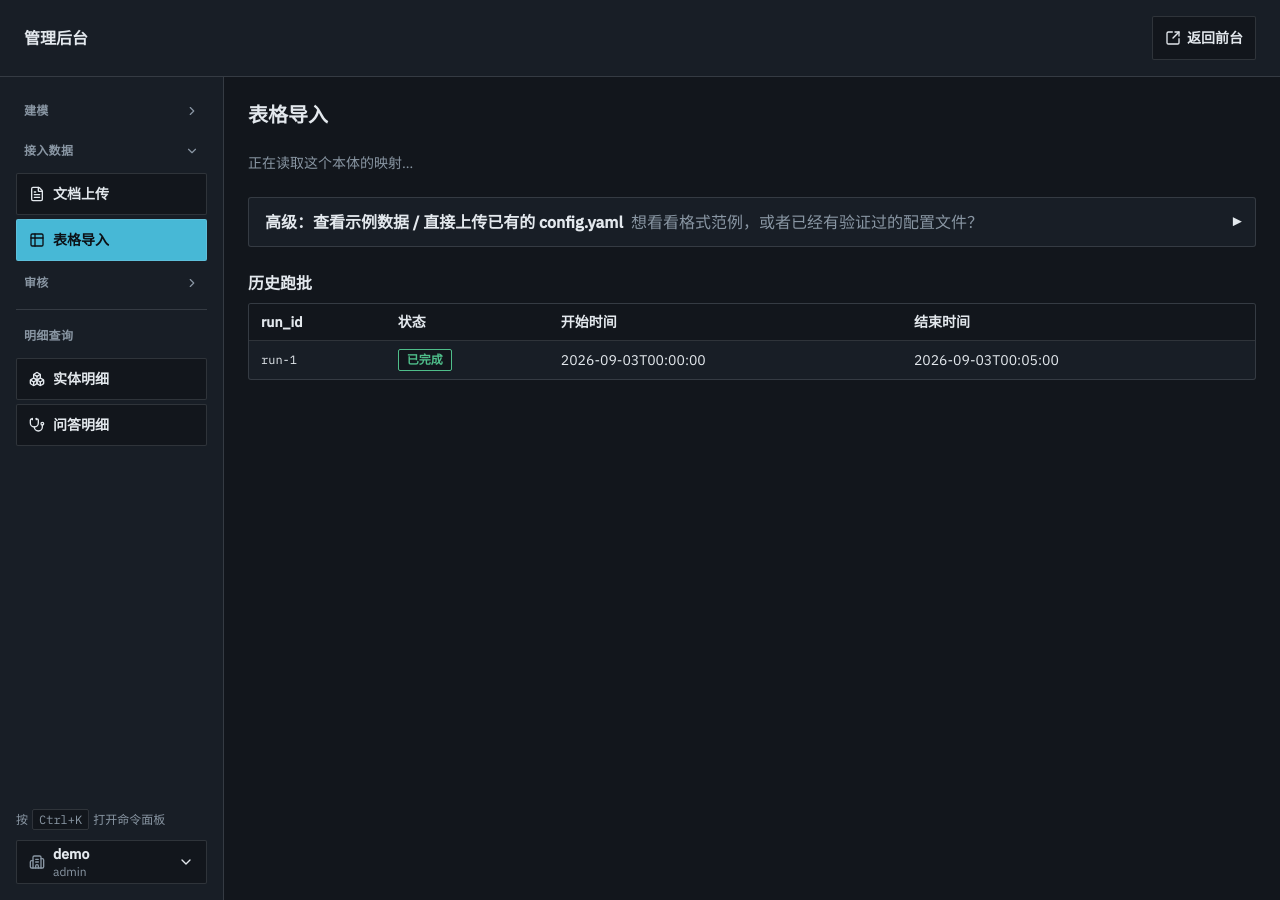
Scenario: 预演转正式执行 › 按钮旁说清转正会重新受安全阀限制，不承诺「按这次预演」包括那个开关
Click the text "run-1" at (279, 360), box [249,340,386,379]
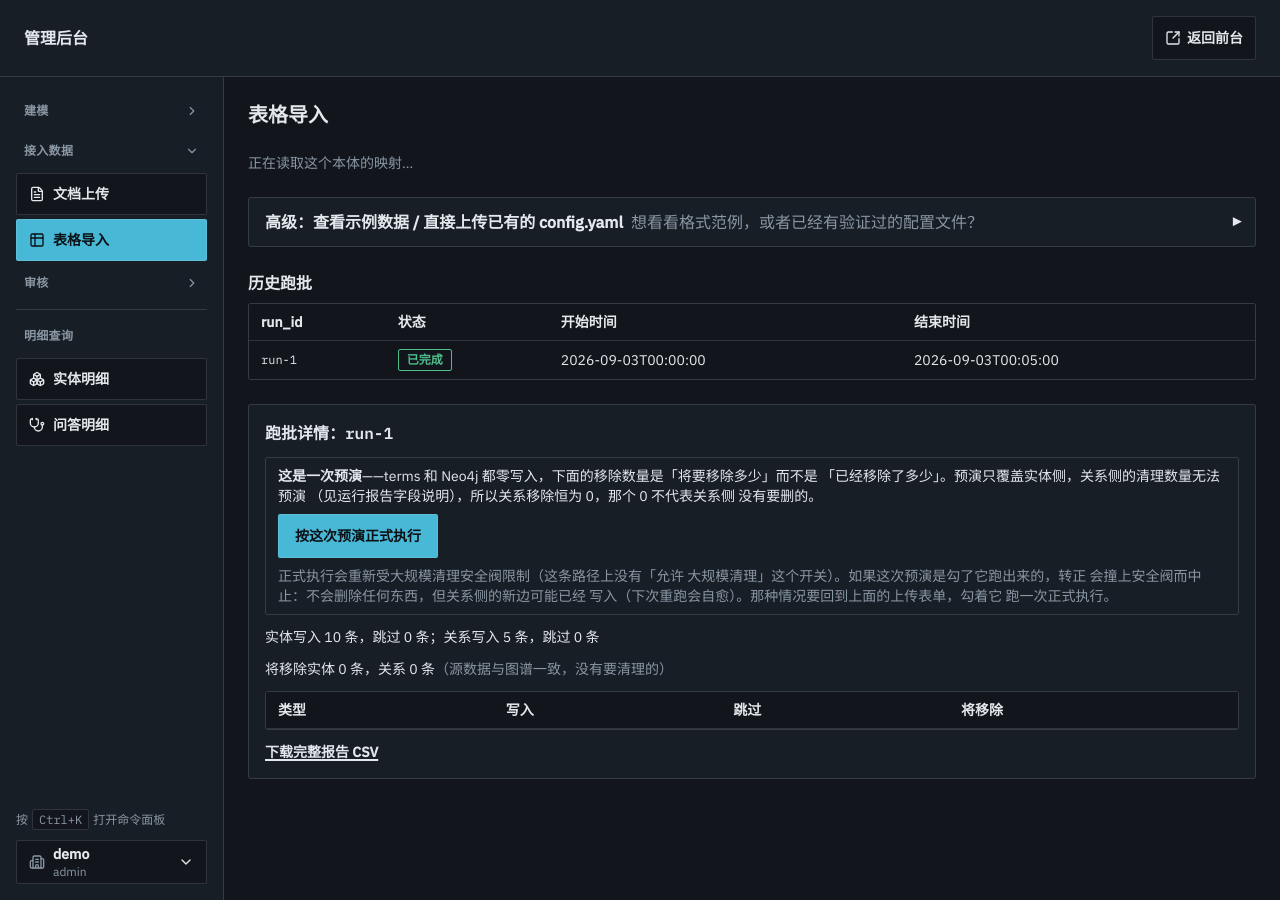
Expected: the button "按这次预演正式执行" is shown, [278,514,438,558]
Expected: the text "正式执行会重新受大规模清理安全阀限制" shows "不会删除任何东西", [278,567,1202,605]
Expected: the text "正式执行会重新受大规模清理安全阀限制" shows "关系侧", [278,566,1226,606]
